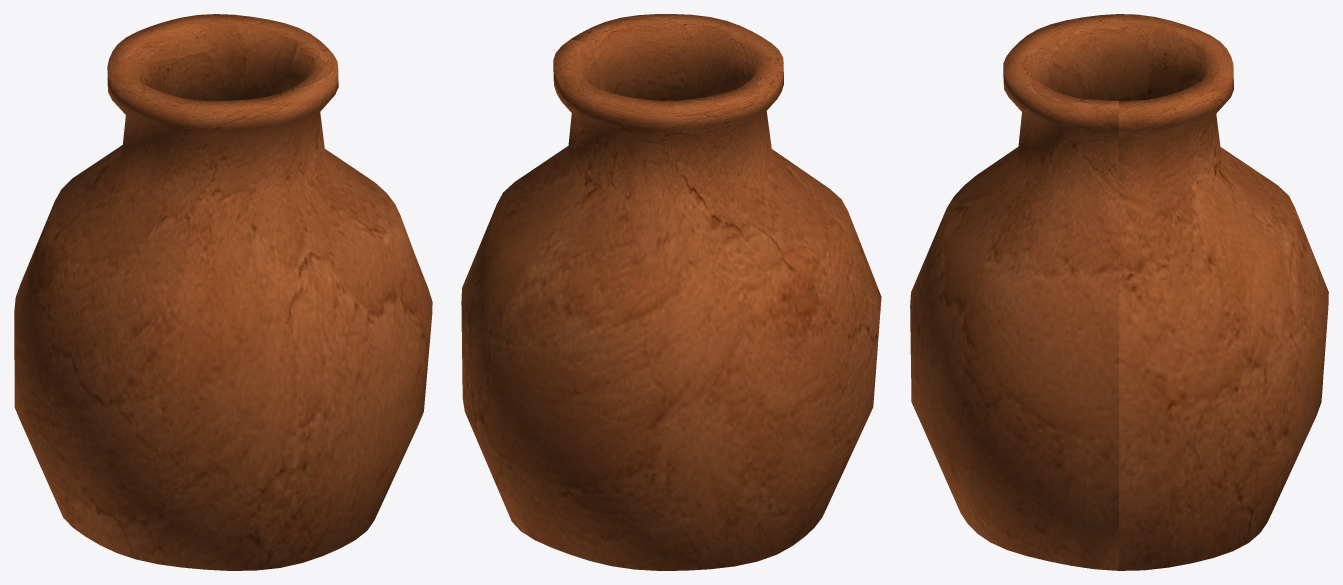
Rendered from prop_kolshi.glb.
The picture shows the model from 3 angles, left to right: view 1: azimuth 30°, elevation 25°; view 2: azimuth 150°, elevation 25°; view 3: azimuth 270°, elevation 25°; orthographic projection.
Visible parts, largest first — view 1: prop_kolshi; view 2: prop_kolshi; view 3: prop_kolshi.
Boxes of the visible parts, x1,y1,x2,y2 form: prop_kolshi: (14,14,432,570); prop_kolshi: (461,14,881,570); prop_kolshi: (910,14,1328,570).
Bounding box in the file's own units: 0.29 × 0.35 × 0.2903.
1 material, 1 textured.
